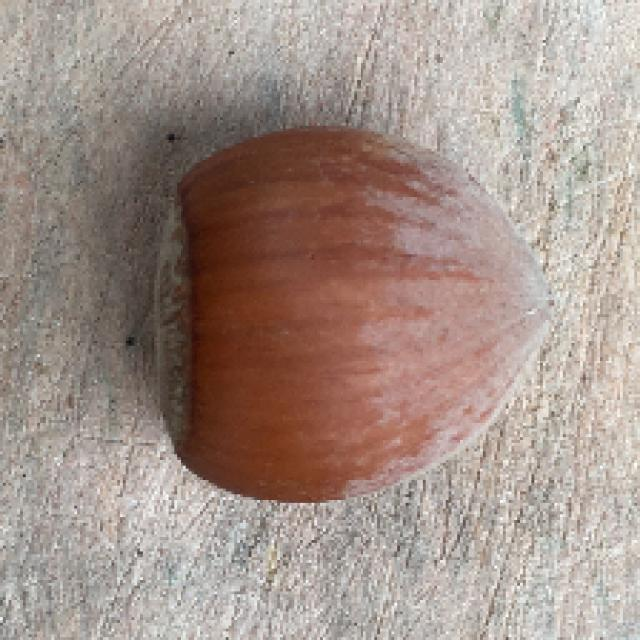QualityHazelnut: (148, 119, 560, 512)
